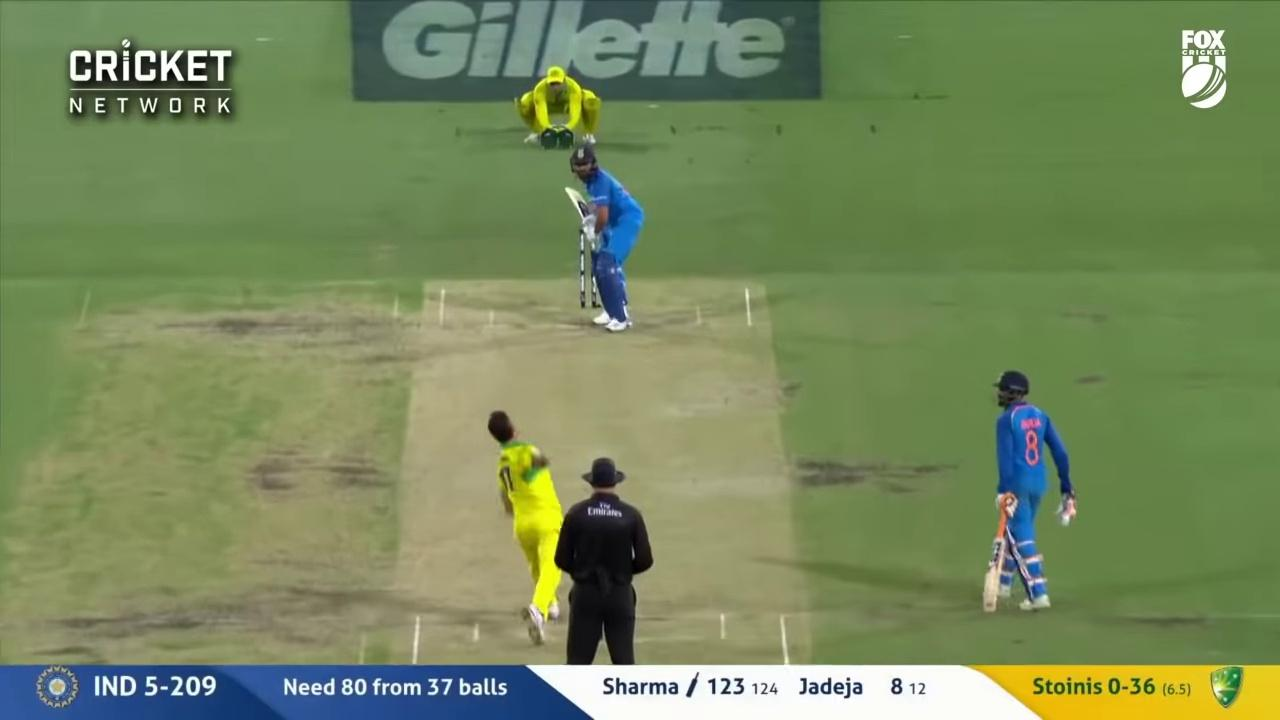batsman: (564, 146, 645, 333)
